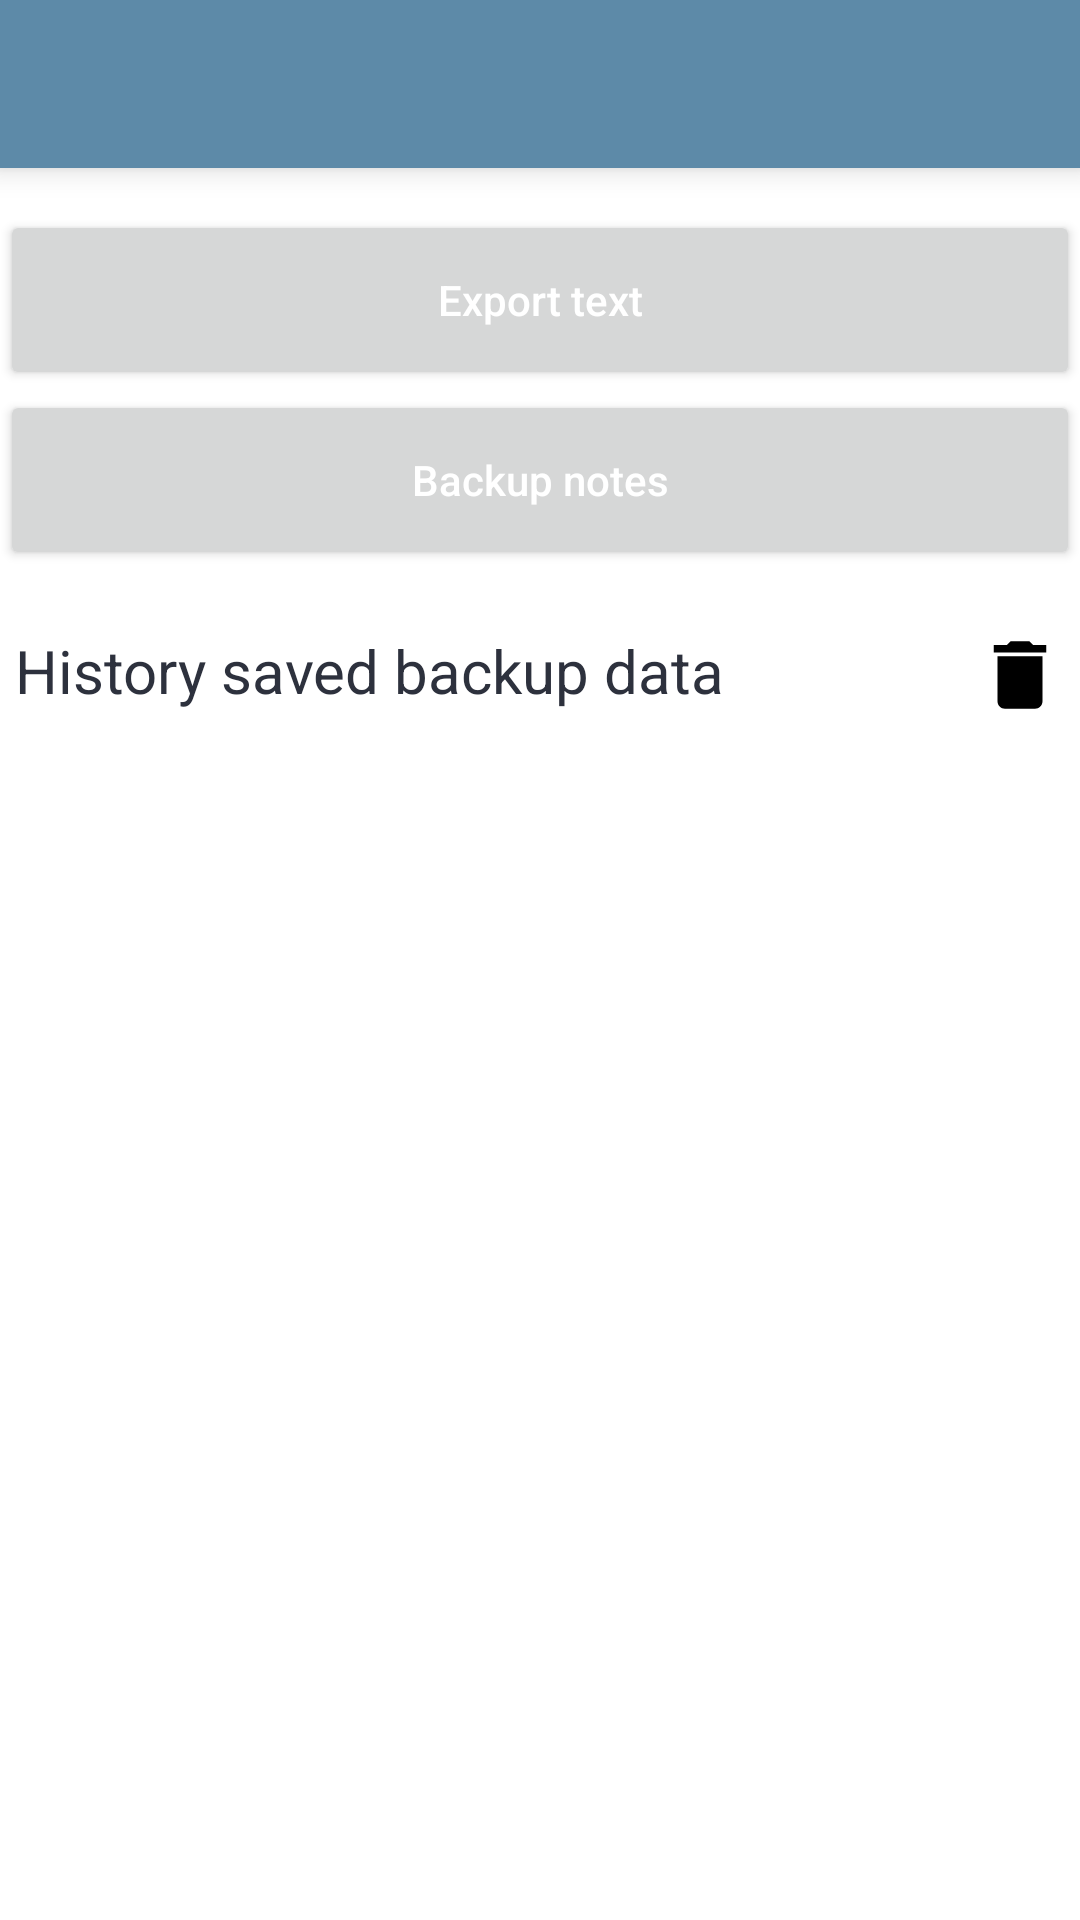

Where icons sit on this 1080*1920 app screen, as bbox=[x1, y1, x2, y2]:
delete: bbox=[993, 641, 1047, 709]
